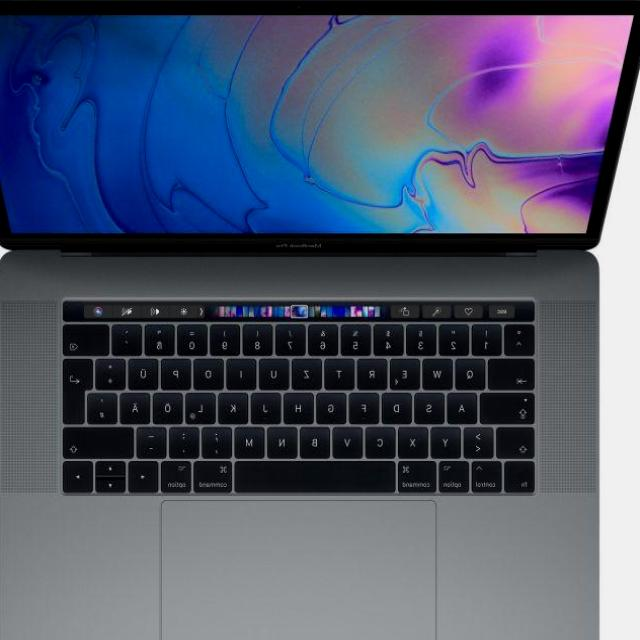0: (179, 320, 211, 354)
1: (474, 320, 506, 354)
2: (440, 320, 472, 354)
3: (408, 320, 440, 354)
4: (376, 319, 408, 353)
5: (342, 320, 374, 354)
6: (310, 319, 342, 353)
7: (277, 320, 309, 354)
8: (246, 320, 276, 354)
9: (212, 320, 244, 354)
a: (450, 388, 480, 422)
accent: (115, 319, 145, 353)
ae: (122, 388, 154, 422)
alt-left: (439, 457, 471, 491)
altgr-right: (163, 457, 195, 491)
b: (301, 422, 333, 456)
c: (367, 423, 399, 457)
caret: (507, 320, 539, 354)
comma: (203, 422, 235, 456)
d: (384, 388, 416, 422)
del: (65, 320, 113, 354)
e: (392, 354, 424, 388)
enter: (64, 355, 96, 423)
f: (352, 388, 382, 422)
g: (318, 388, 350, 422)
h: (286, 388, 318, 422)
hash: (90, 388, 122, 422)
i: (229, 354, 261, 386)
j: (253, 387, 285, 421)
k: (220, 388, 252, 422)
keyboard: (52, 293, 546, 499)
l: (189, 388, 219, 422)
less: (465, 424, 497, 456)
m: (237, 422, 269, 456)
minus: (139, 424, 171, 456)
n: (269, 424, 301, 456)
o: (196, 355, 228, 387)
oe: (155, 388, 187, 422)
p: (163, 354, 195, 388)
plus: (97, 354, 129, 386)
point: (171, 422, 203, 456)
q: (457, 354, 489, 388)
r: (359, 354, 391, 388)
s: (416, 388, 448, 422)
shift-left: (499, 423, 539, 457)
shift-lock: (482, 388, 538, 422)
shift-right: (65, 422, 137, 456)
space: (237, 457, 399, 491)
ss: (146, 320, 178, 354)
strg-left: (473, 457, 505, 491)
t: (326, 354, 358, 388)
tab: (490, 355, 538, 387)
u: (261, 354, 293, 388)
ue: (131, 354, 163, 388)
v: (334, 422, 366, 456)
w: (424, 354, 456, 388)
x: (400, 424, 432, 456)
y: (432, 424, 464, 456)
z: (294, 354, 326, 388)
